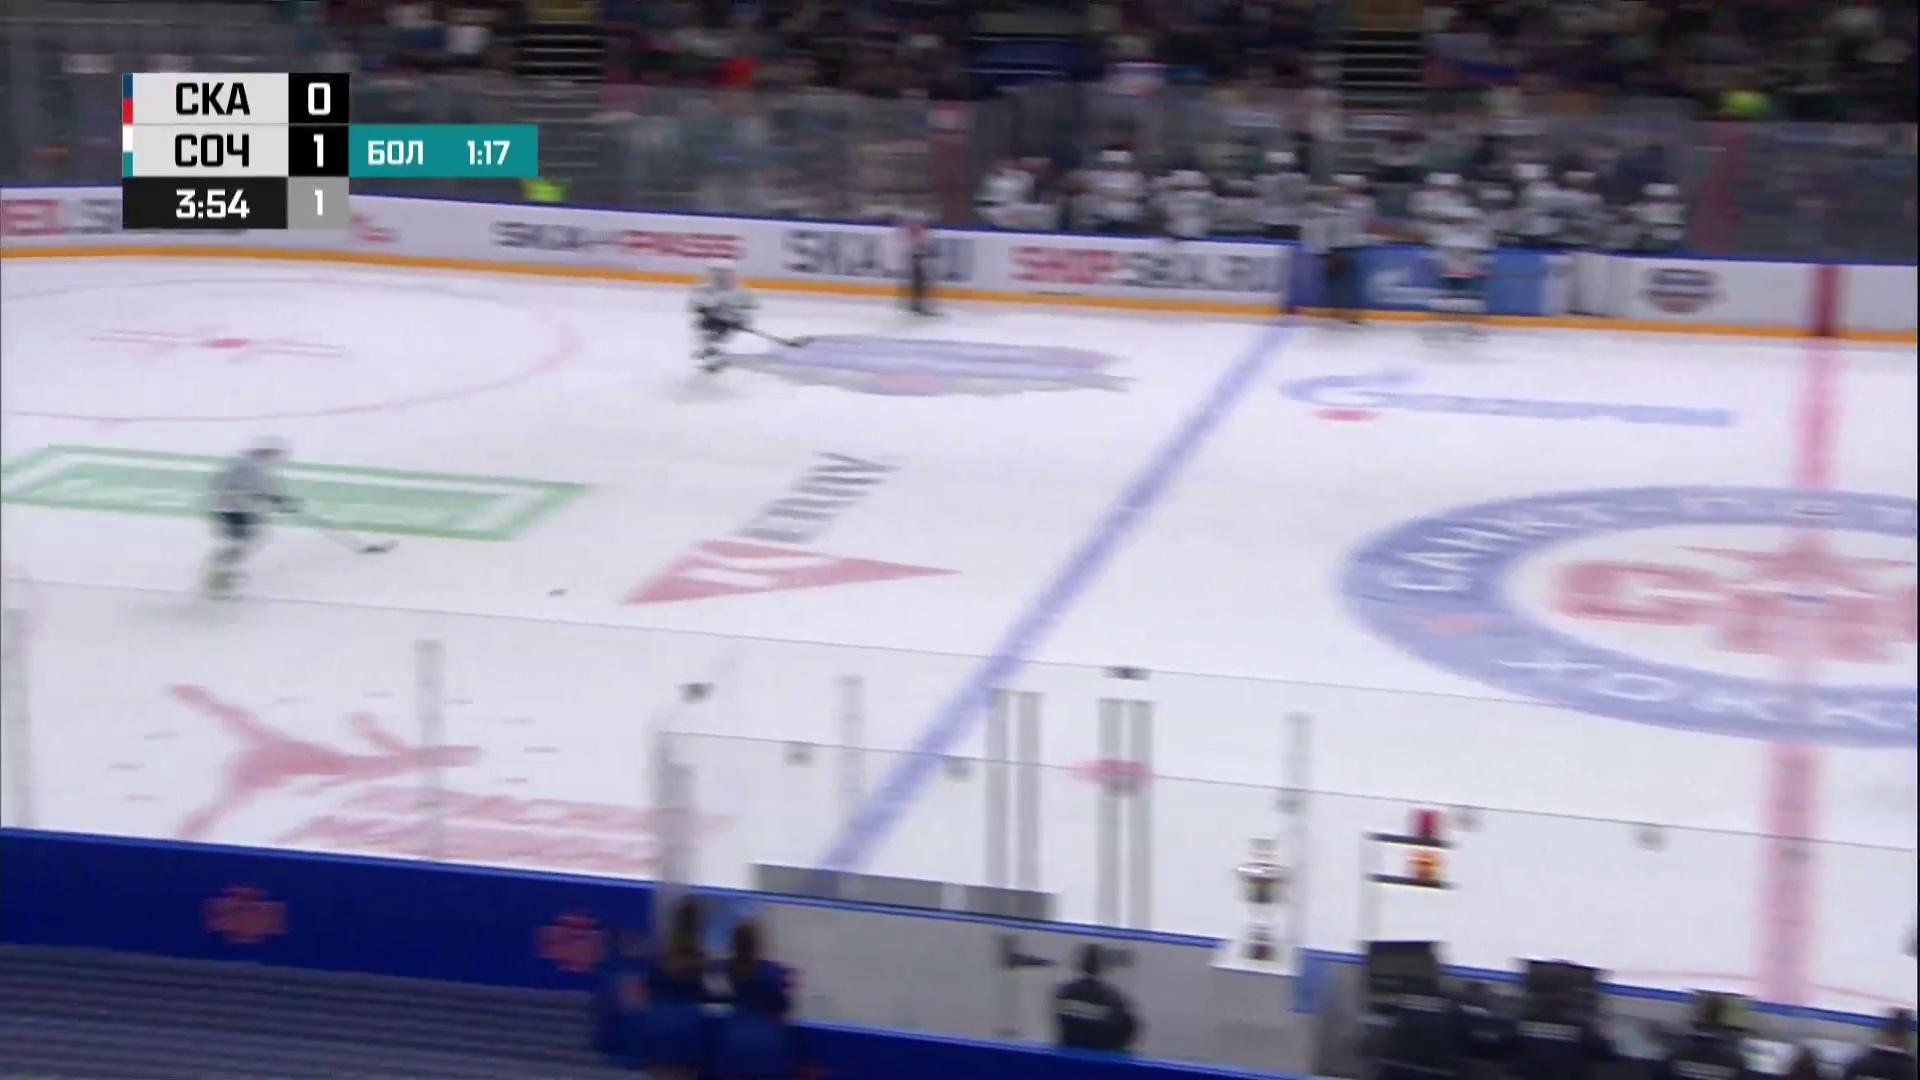ball: (548, 587, 568, 596)
